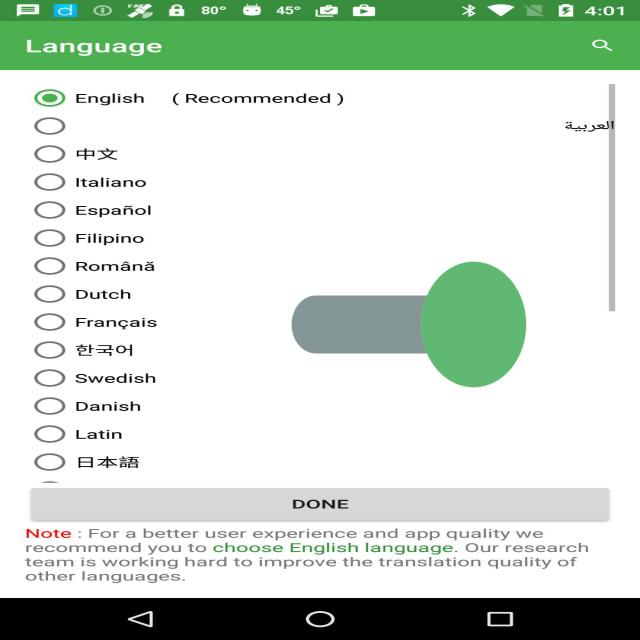social proof: (292, 184, 526, 465)
